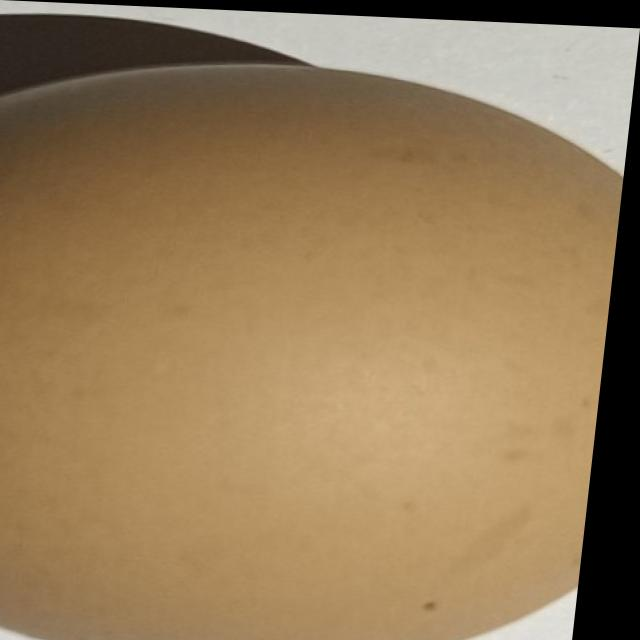fresh: (0, 40, 637, 640)
